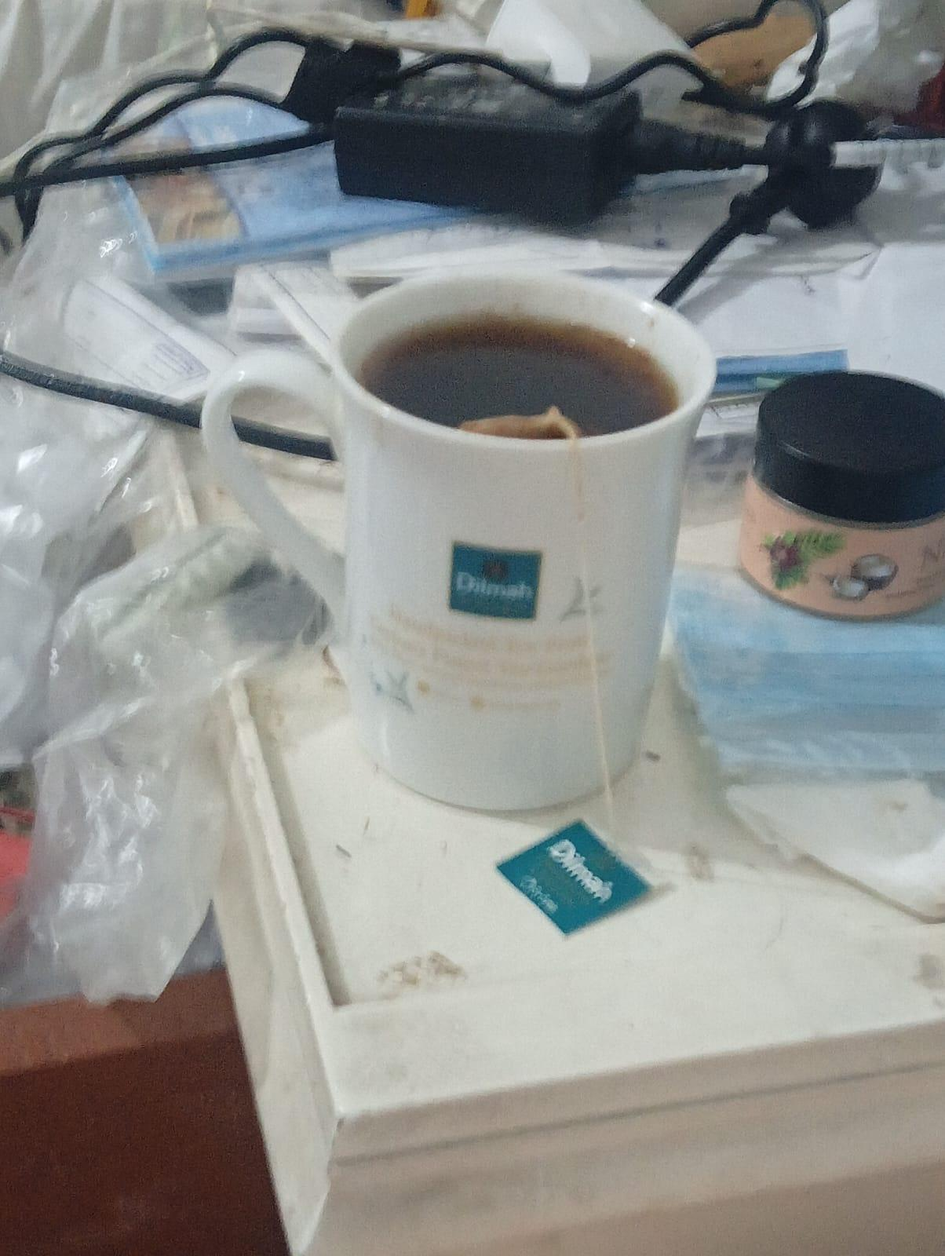cup: (202, 272, 714, 809)
